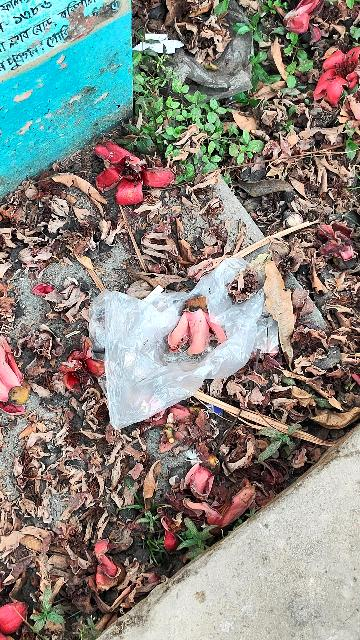polythene: (93, 254, 296, 428)
